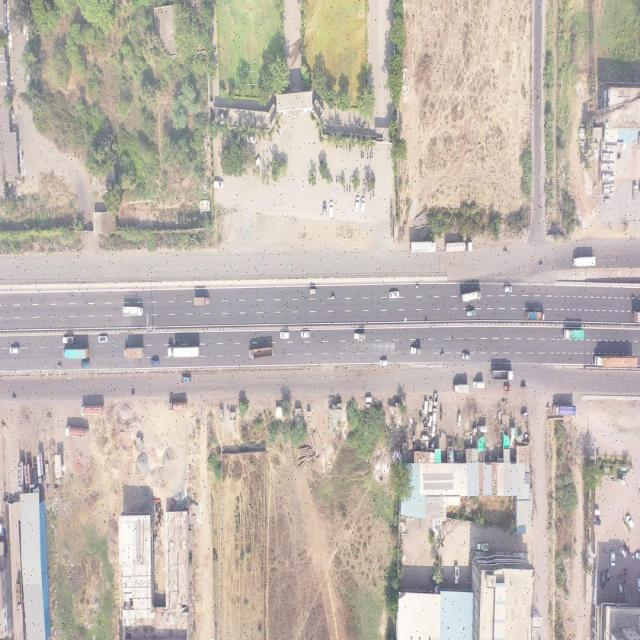3W: (520, 409, 529, 419), (504, 383, 511, 392), (309, 288, 317, 295), (520, 384, 528, 390)
Cars: (625, 510, 635, 529), (246, 134, 256, 146), (619, 545, 627, 560), (610, 551, 617, 567), (213, 180, 225, 189), (321, 201, 327, 219), (600, 571, 606, 589), (465, 309, 477, 318), (388, 290, 400, 299), (9, 346, 21, 355), (254, 154, 262, 167), (98, 334, 108, 344), (329, 200, 334, 219), (456, 412, 462, 427), (279, 331, 289, 340), (503, 285, 512, 294), (300, 330, 310, 338), (461, 352, 471, 360), (361, 197, 366, 212), (618, 582, 623, 597), (150, 358, 159, 366), (355, 196, 359, 212), (429, 397, 433, 413), (379, 358, 387, 366), (81, 361, 90, 368), (424, 400, 428, 414), (636, 579, 640, 592), (434, 406, 437, 422), (429, 414, 433, 426)
LCV: (476, 540, 490, 552), (453, 564, 460, 586), (353, 331, 366, 341), (409, 347, 422, 356), (472, 381, 486, 389), (63, 336, 75, 344), (182, 376, 192, 383)
M2W: (330, 294, 336, 300), (502, 248, 508, 254), (440, 351, 445, 358), (539, 259, 543, 267), (631, 294, 635, 302), (57, 363, 62, 369), (350, 175, 353, 184), (363, 176, 366, 185), (345, 142, 348, 150), (414, 285, 420, 289), (347, 183, 349, 193), (12, 395, 16, 400), (131, 391, 135, 396), (336, 174, 338, 183), (370, 192, 372, 201), (362, 149, 364, 158), (372, 151, 374, 160), (331, 174, 333, 183), (340, 175, 342, 184), (344, 185, 346, 194), (264, 169, 266, 177), (367, 152, 369, 160), (349, 185, 351, 193), (341, 142, 343, 149)
MAV: (594, 352, 639, 367), (167, 346, 200, 358), (445, 240, 474, 253)
Truck: (64, 424, 89, 440), (552, 404, 578, 417), (63, 347, 89, 360), (460, 289, 482, 304), (410, 241, 436, 253), (249, 347, 273, 360), (80, 404, 105, 416), (573, 256, 596, 268), (122, 305, 143, 317), (168, 399, 187, 412), (563, 329, 586, 339), (492, 370, 514, 380), (123, 347, 144, 357), (526, 312, 545, 321), (452, 383, 469, 393), (194, 297, 210, 306)
